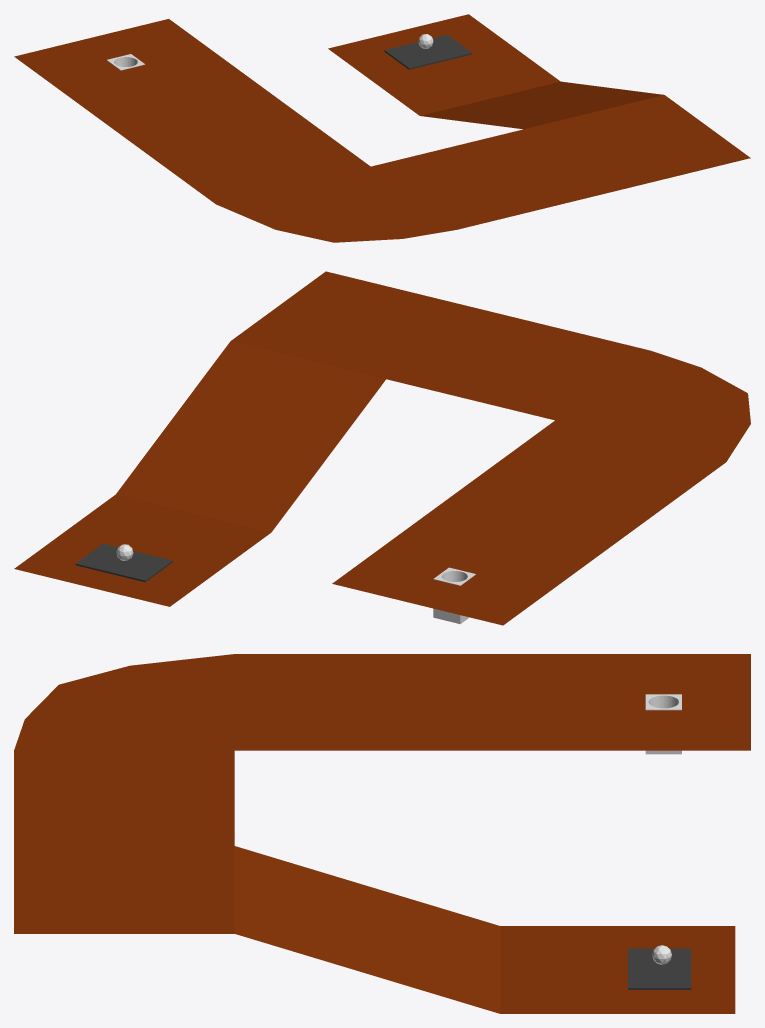
File: boilerplate_level_12.glb
The picture shows the model from 3 angles, top to bottom: view 1: azimuth 30°, elevation 25°; view 2: azimuth 150°, elevation 25°; view 3: azimuth 270°, elevation 25°; orthographic projection. The views are drawn at different scales.
Visible parts, largest first — view 1: Plane, Start; view 2: Plane, Start, Cup; view 3: Plane, Start, Cup.
Part boxes in pixels (<box>): Plane: <box>14,14,750,242</box>; Start: <box>384,35,472,69</box>; Plane: <box>14,271,750,625</box>; Start: <box>75,543,172,582</box>; Cup: <box>433,567,475,624</box>; Plane: <box>14,654,750,1013</box>; Start: <box>628,948,691,989</box>; Cup: <box>645,694,681,754</box>.
Bounding box in the file's own units: 55.9 × 7.78 × 62.2.
